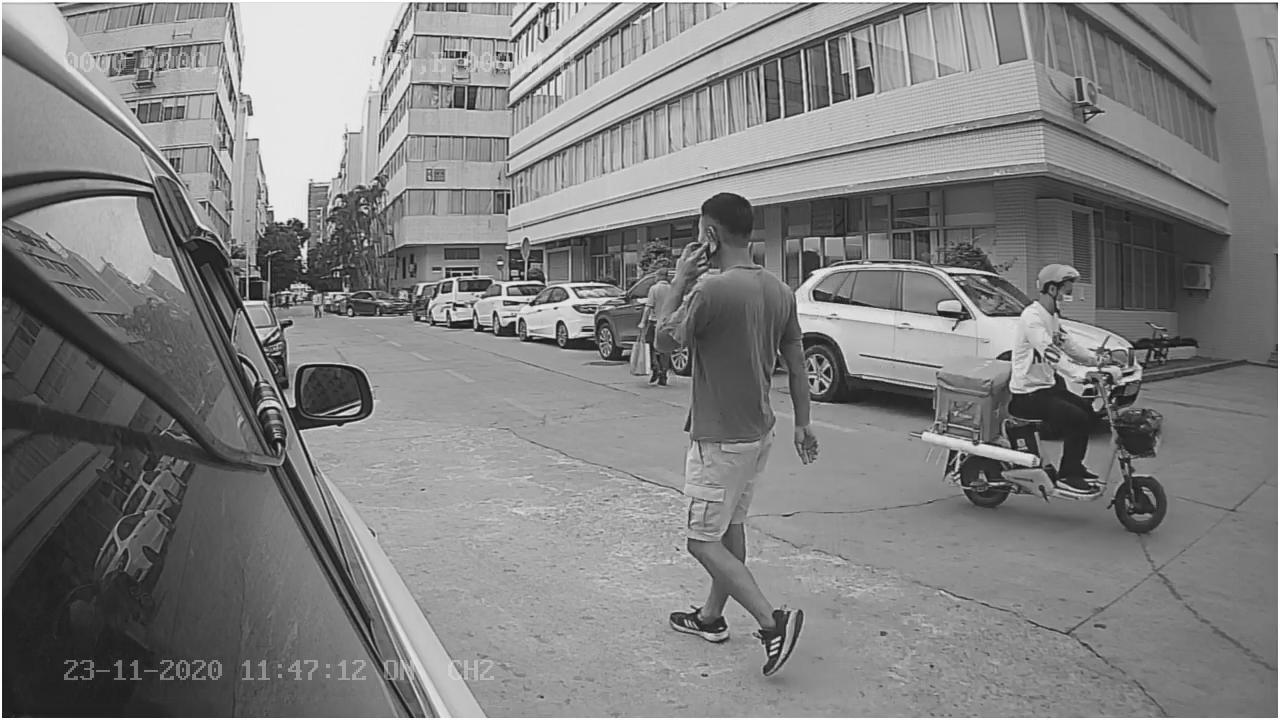person: (654, 178, 821, 672), (1008, 251, 1116, 368)
